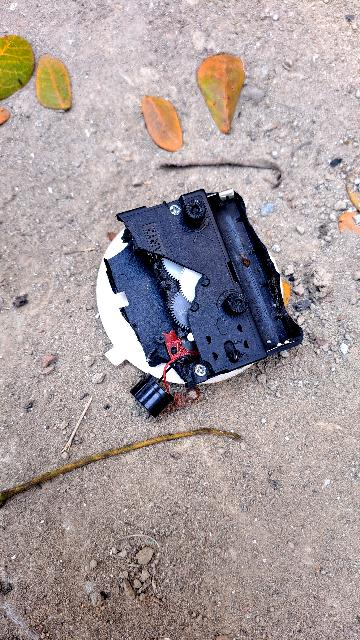hardplastic: (96, 179, 299, 426)
